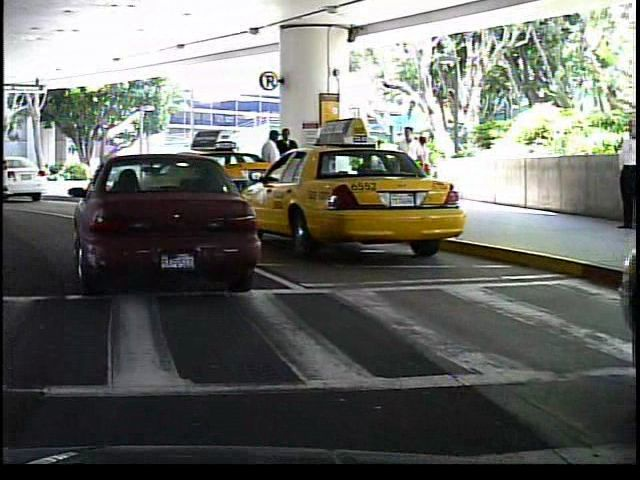person: (606, 112, 640, 235), (391, 119, 427, 209), (254, 126, 285, 210), (409, 131, 439, 201), (277, 126, 300, 205)
